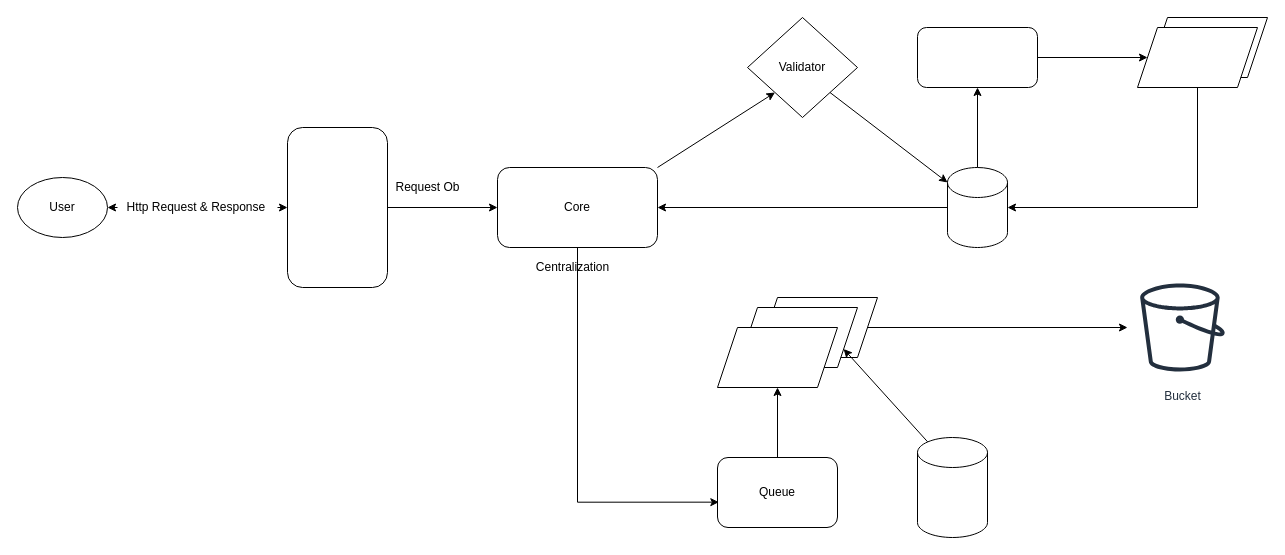
Image size: 1285x555. Some labels were removed from this diagram. The shapes that lost their labels are listed below. From the top down, each one's centre as x and y in pixels, then its label:
the point at 337,207: Web Broser
the point at 977,207: Dynamo DB
the point at 952,487: Replication
